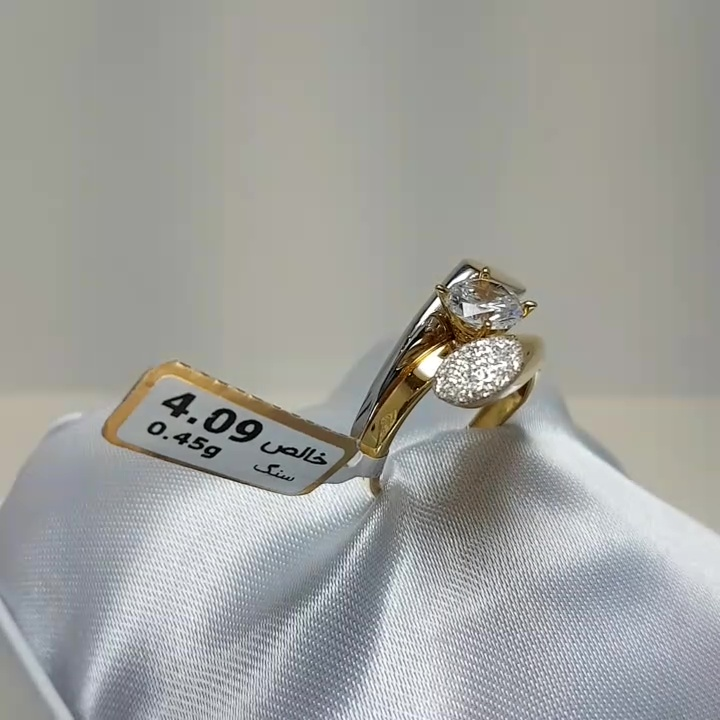Ring 7: (345, 221, 582, 502)
